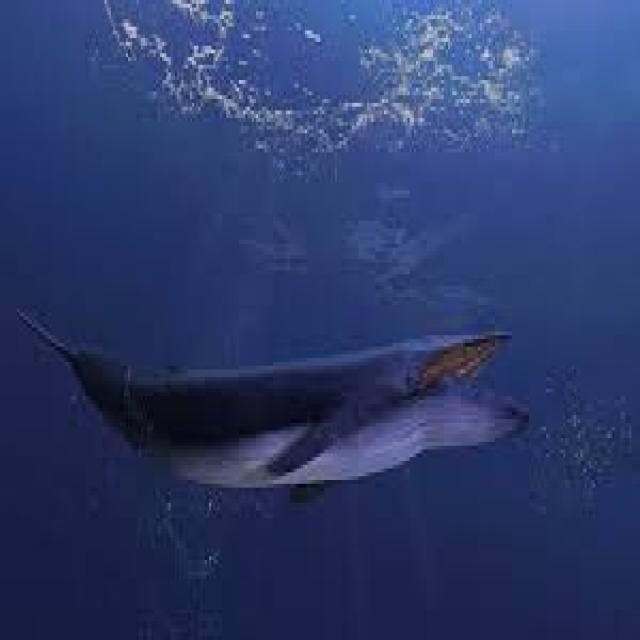blue_whale: (41, 278, 536, 579)
